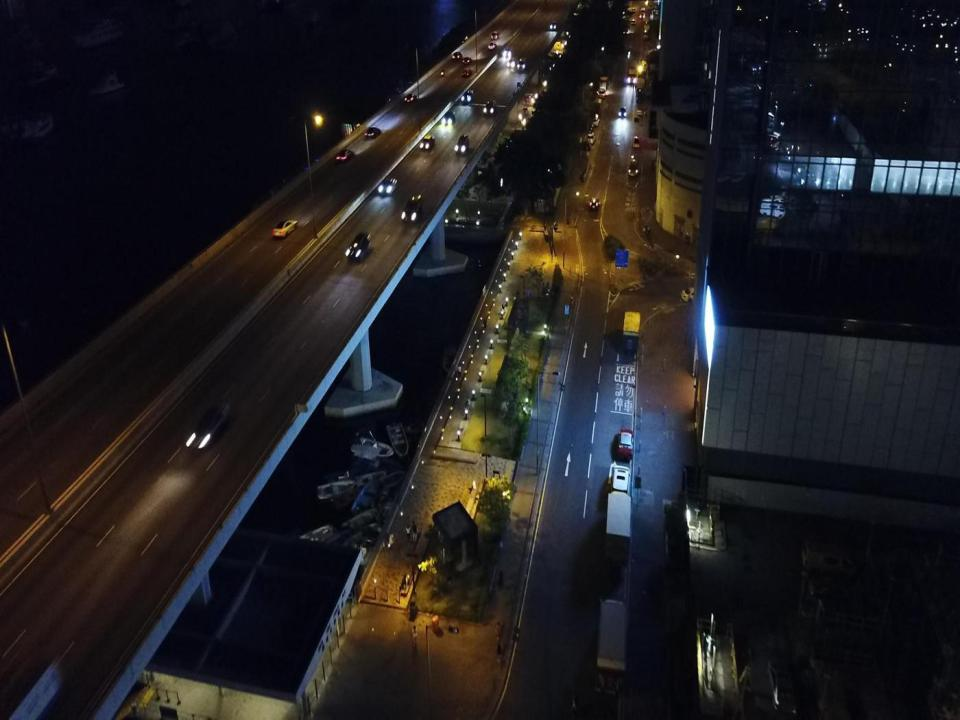car: (189, 401, 229, 453), (607, 463, 633, 501), (346, 232, 371, 261), (616, 430, 636, 461), (402, 195, 423, 224), (272, 218, 299, 240), (682, 287, 706, 303), (380, 178, 398, 196), (420, 134, 436, 151), (455, 134, 469, 153), (628, 156, 639, 176), (484, 99, 496, 117), (442, 111, 456, 126), (461, 90, 474, 106), (336, 150, 352, 162), (365, 127, 381, 139), (404, 92, 417, 103), (460, 68, 472, 78), (502, 46, 514, 56), (517, 58, 527, 70), (590, 197, 598, 210), (633, 135, 640, 148), (462, 57, 473, 65), (508, 57, 516, 68), (452, 52, 461, 60), (619, 107, 626, 117), (549, 22, 557, 30), (488, 42, 497, 49), (491, 32, 499, 39), (632, 19, 636, 26), (632, 7, 636, 13)
truck: (596, 597, 629, 700), (607, 491, 631, 568), (622, 310, 642, 355), (628, 68, 637, 84), (643, 25, 650, 39), (640, 7, 645, 19)
van: (802, 542, 857, 578), (760, 202, 786, 219), (592, 114, 599, 126), (598, 86, 605, 98), (587, 134, 595, 144)
